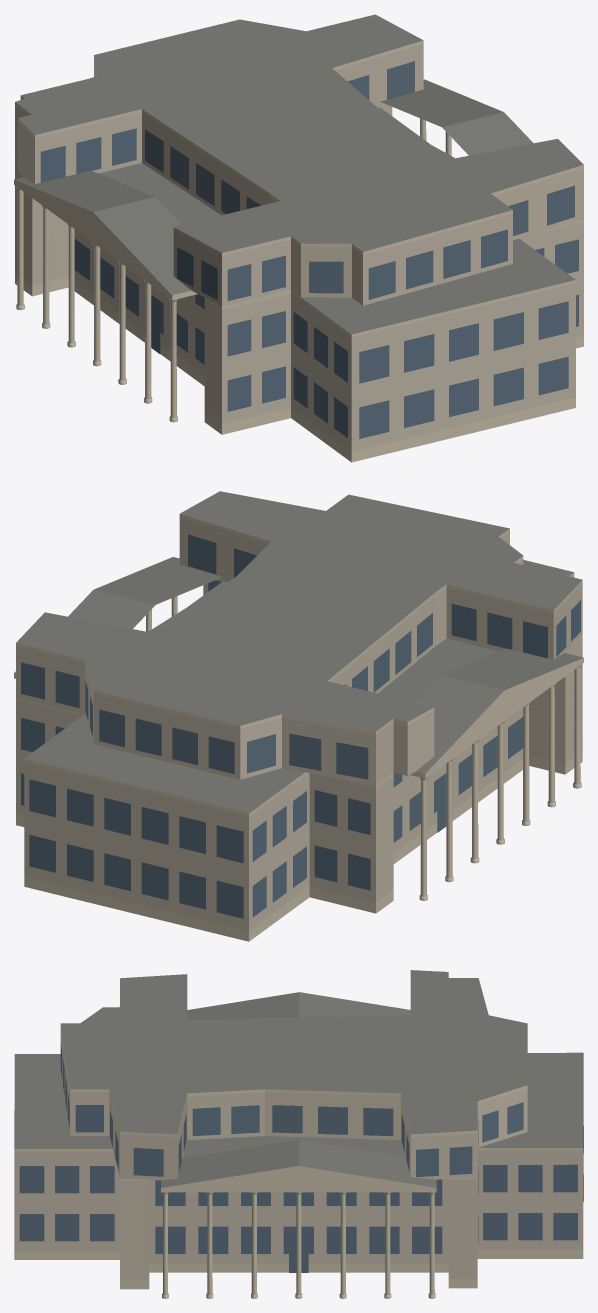
File: dc-au-kerwin-hall.glb
The picture shows the model from 3 angles, top to bottom: view 1: azimuth 30°, elevation 25°; view 2: azimuth 150°, elevation 25°; view 3: azimuth 270°, elevation 25°; orthographic projection. The views are drawn at different scales.
Visible parts, largest first — view 1: Kerwin Hall; view 2: Kerwin Hall; view 3: Kerwin Hall.
Boxes of the visible parts, bbox=[...] form: Kerwin Hall: bbox=[14, 14, 583, 462]; Kerwin Hall: bbox=[14, 491, 583, 941]; Kerwin Hall: bbox=[14, 970, 583, 1298].
Size of the model in its own units: 42.3 by 17.9 by 58.6.
